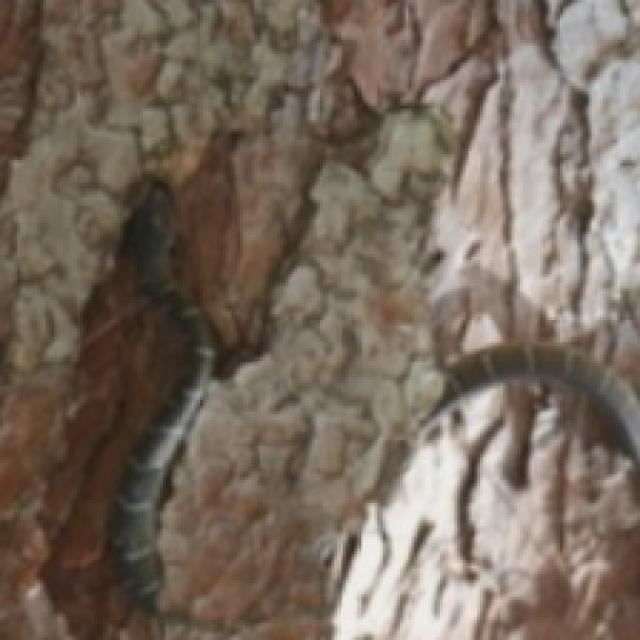reddish rat snake: (111, 185, 218, 611), (432, 342, 640, 467)
